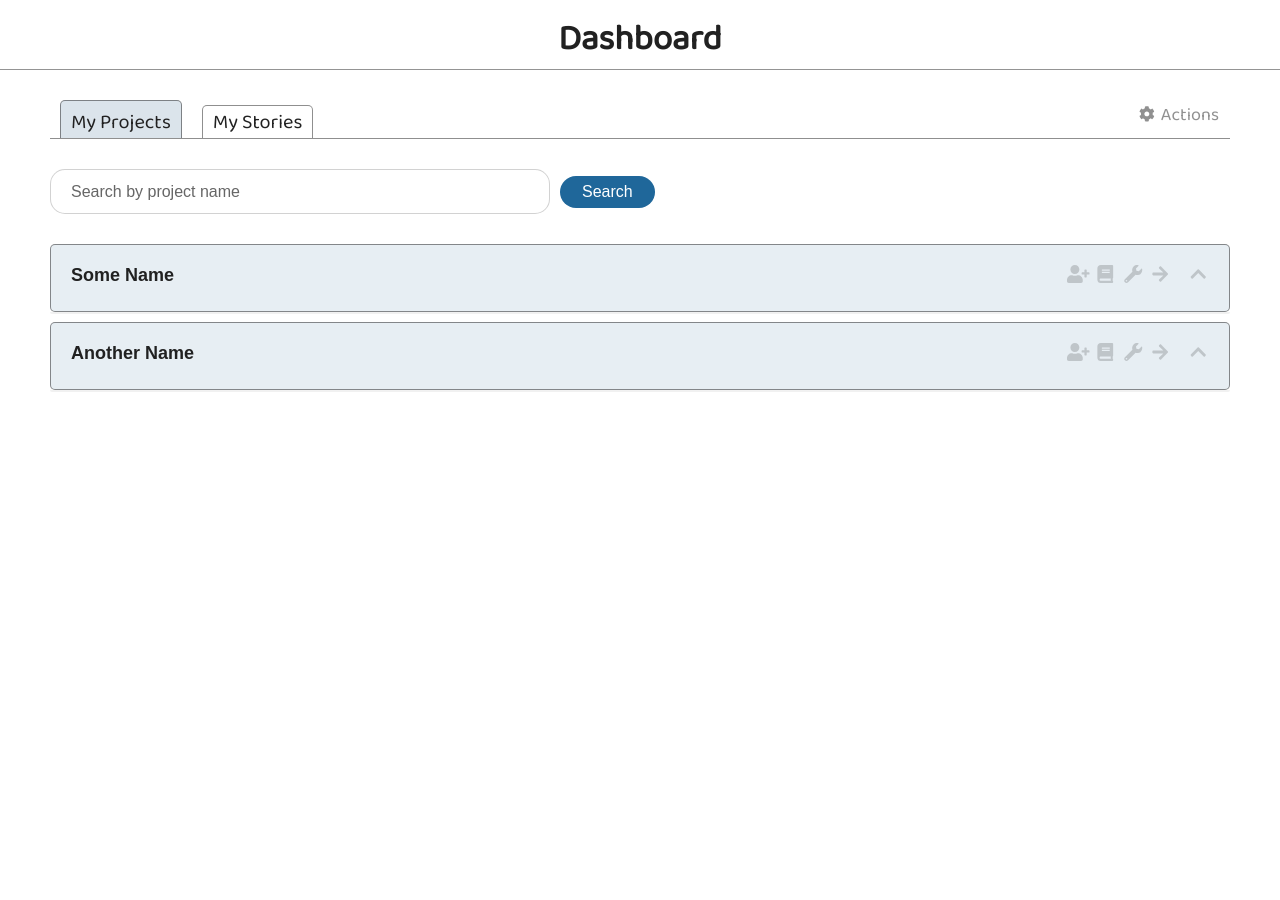
it: <Dashboard /> › should render the ProjectModal when the new project button is clicked
Click the element with test id "dashboardActionsMenu" at (1178, 115), box x1=1138 y1=101 x2=1219 y2=129
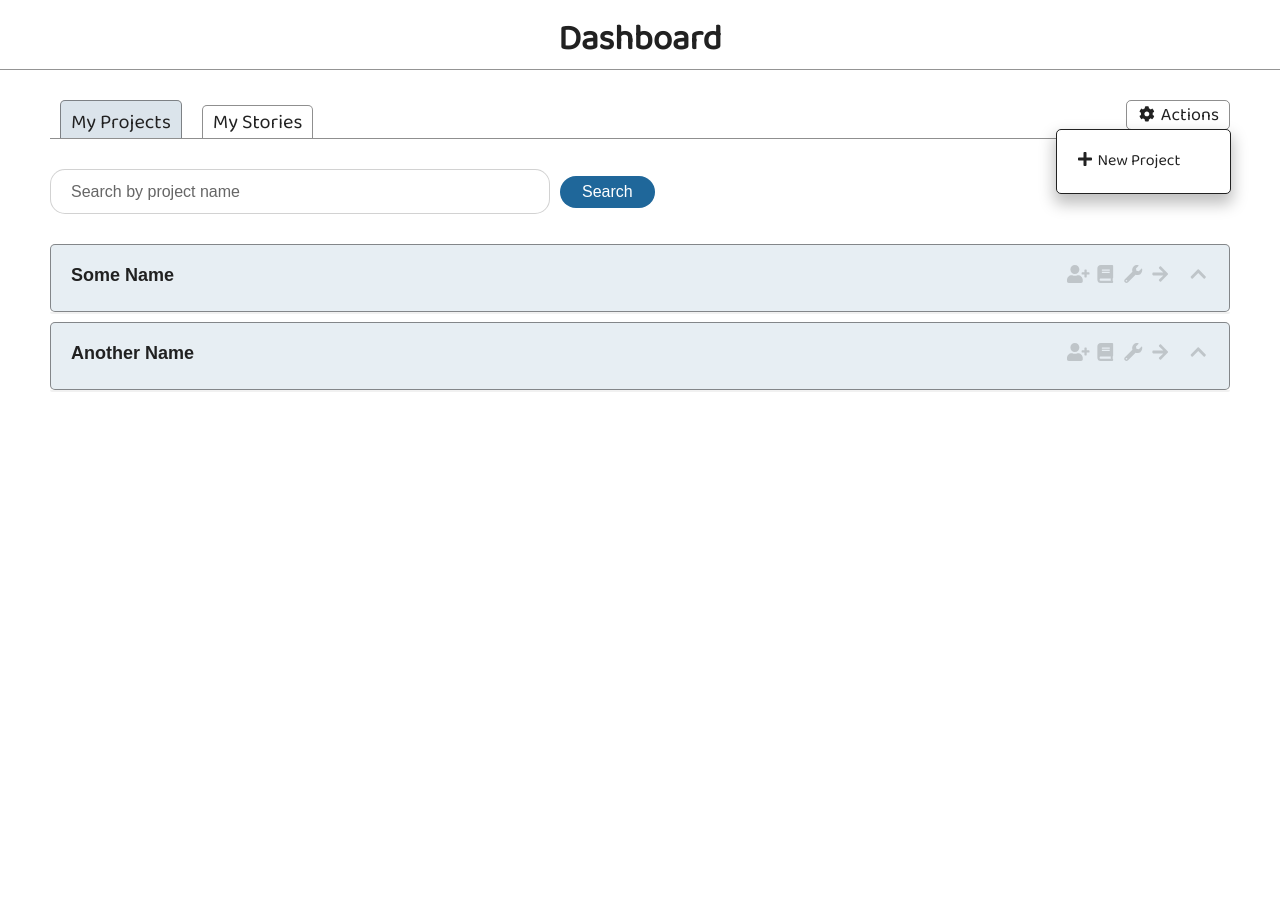
Click the list item "New Project" at (1144, 160), box x1=1062 y1=142 x2=1226 y2=179
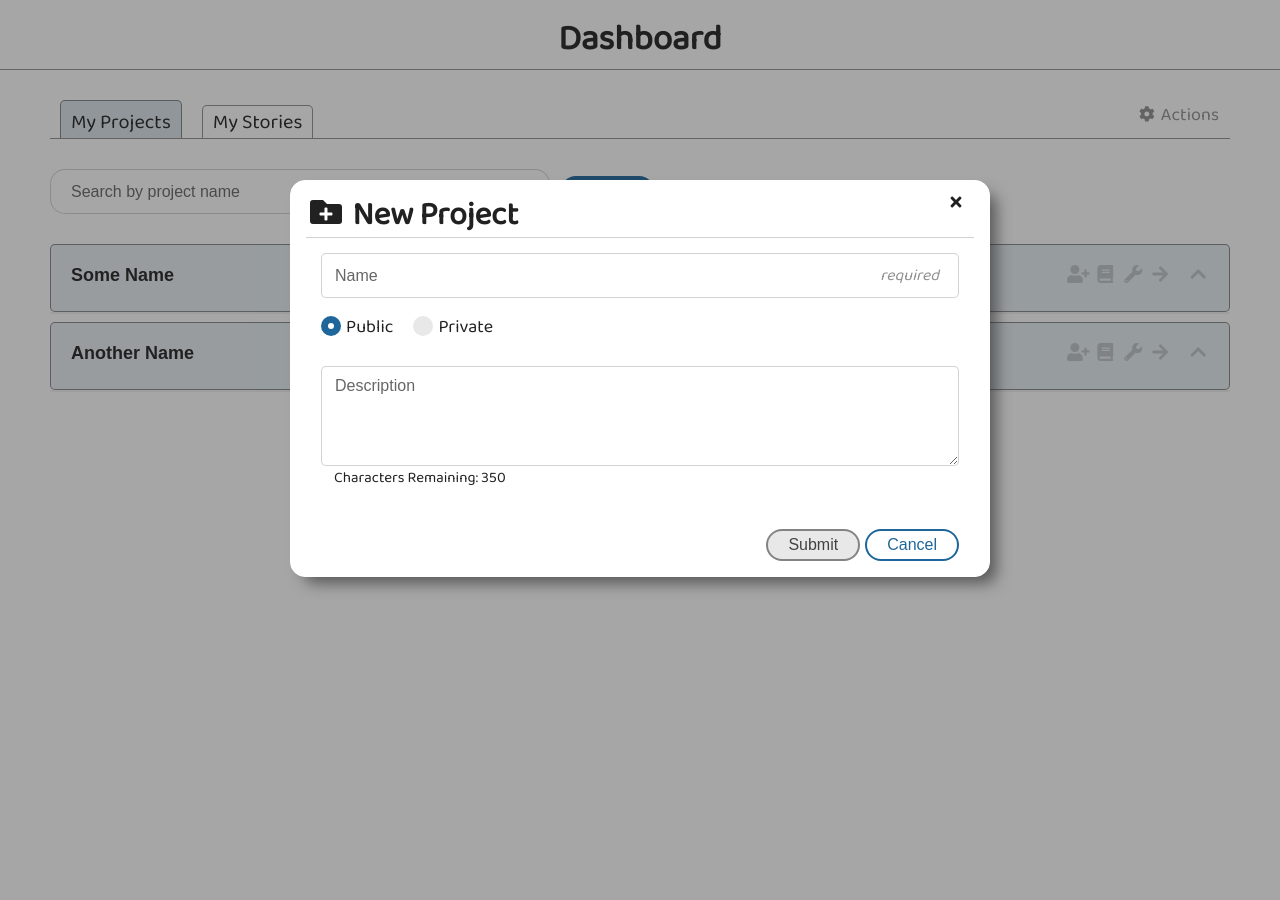
Result: the element with test id "projectModal.wrapper" is shown
